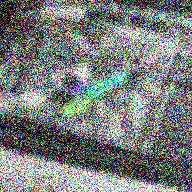러키펜정: (20, 90, 46, 109)
씨엠지세파클러캡슐: (67, 64, 91, 98)
에르도캡슐: (85, 70, 128, 99)
휴티렌정: (60, 96, 92, 119)
